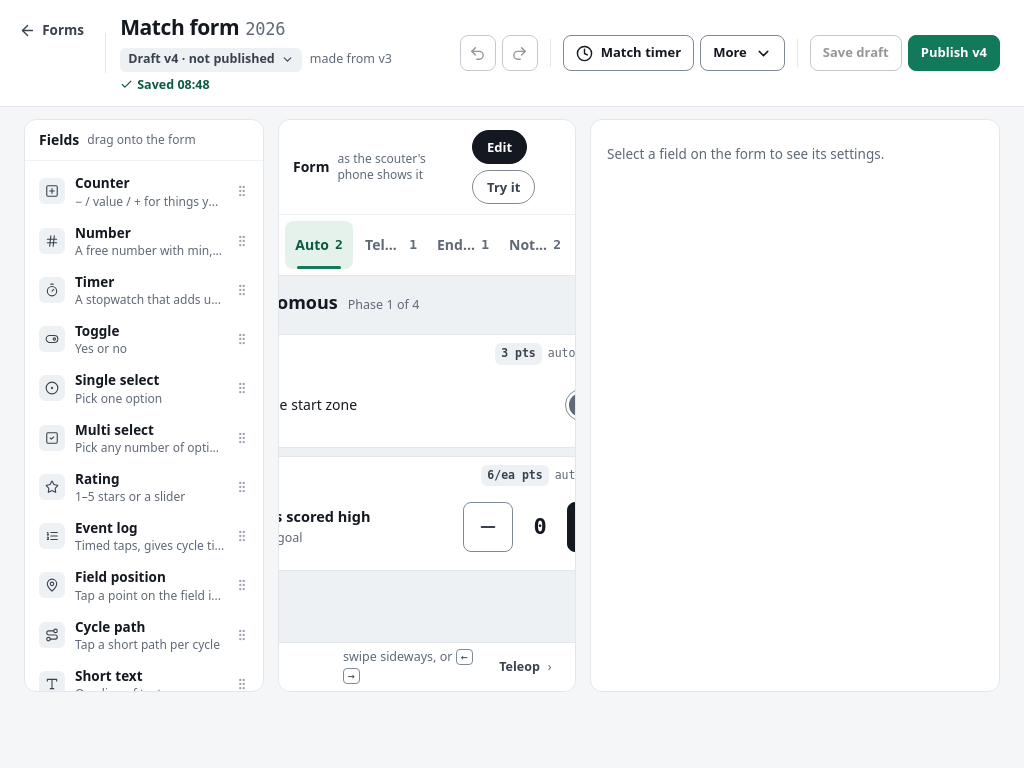
Test case: Try it: map fields (task 1.35) › draws a map field as its map button in Edit and Try it, never a placeholder card
This screenshot has width=1024, height=768.
Expected: the element "Form" is shown, left=278, top=119, right=576, bottom=692
Click the button with aria-label "Add Field position:": point(144, 585) left=31, top=561, right=257, bottom=610
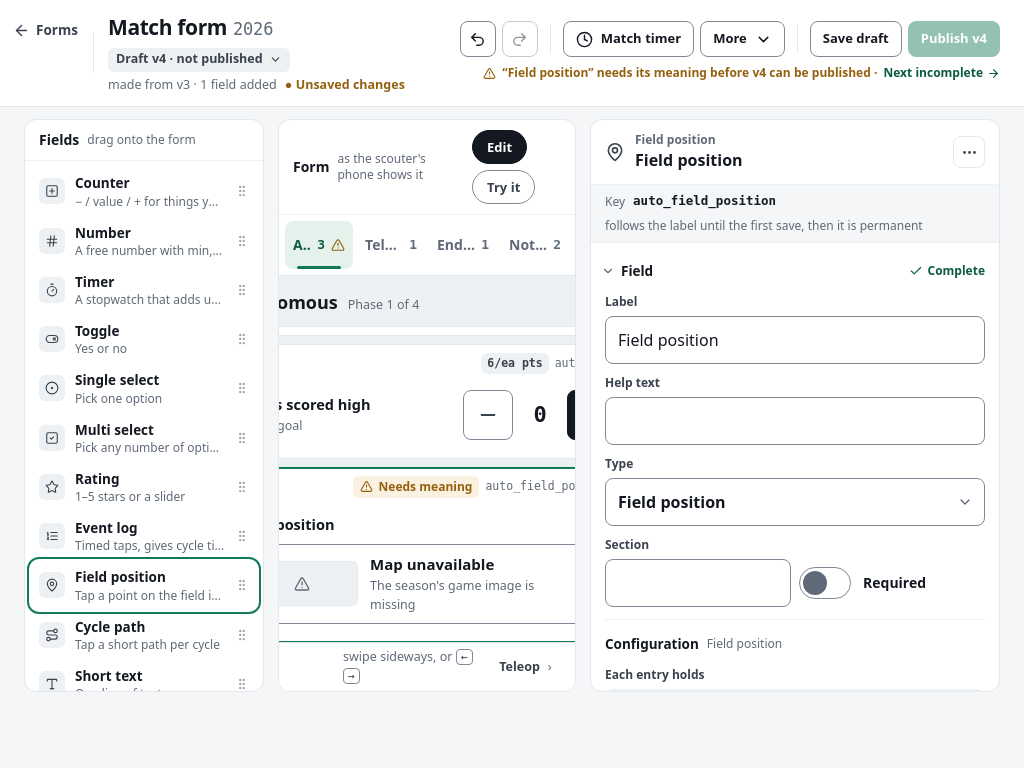
Click the button with aria-label "Add Cycle path:": point(144, 635) left=31, top=610, right=257, bottom=659
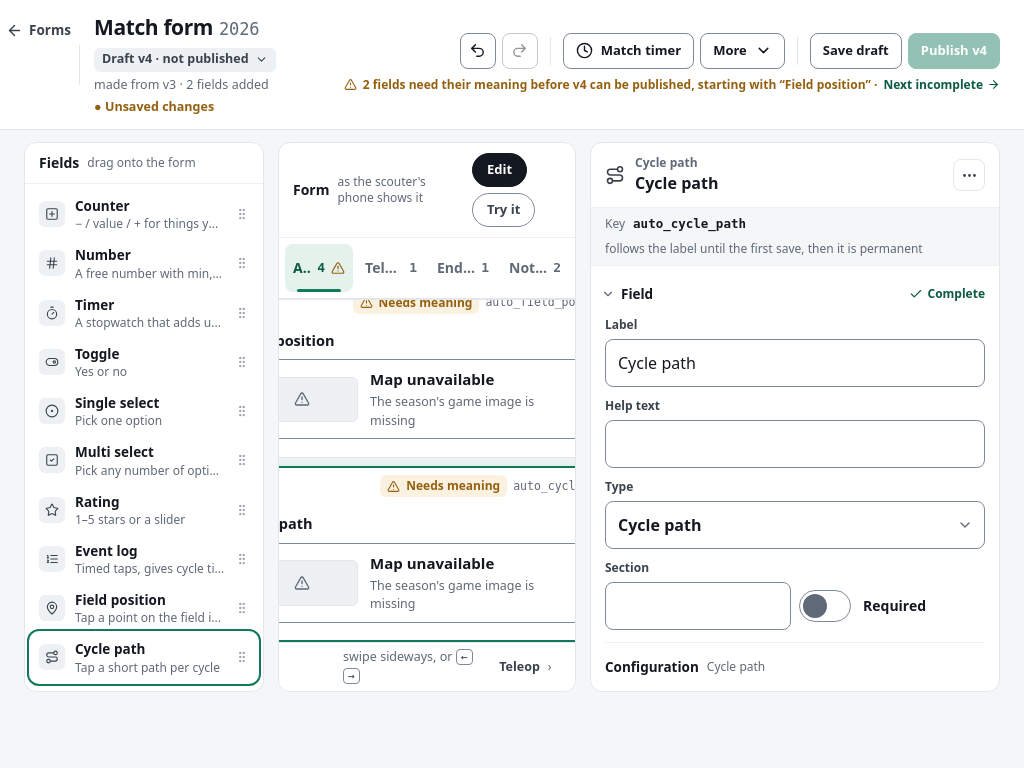
Now the text "Map unavailable" is shown 2 times, box left=370, top=369, right=494, bottom=389; left=370, top=553, right=494, bottom=573
Click the button "Try it": point(504, 210) left=472, top=193, right=535, bottom=227
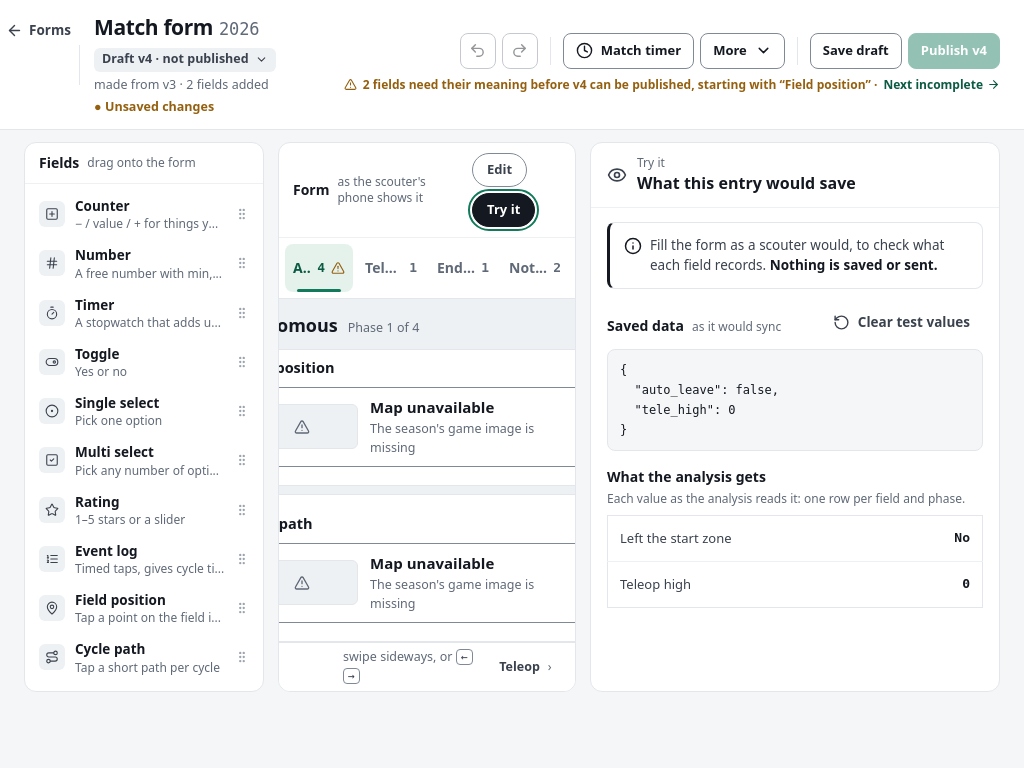
Click the button with aria-label ": Map unavailable": point(427, 427) left=237, top=387, right=617, bottom=467
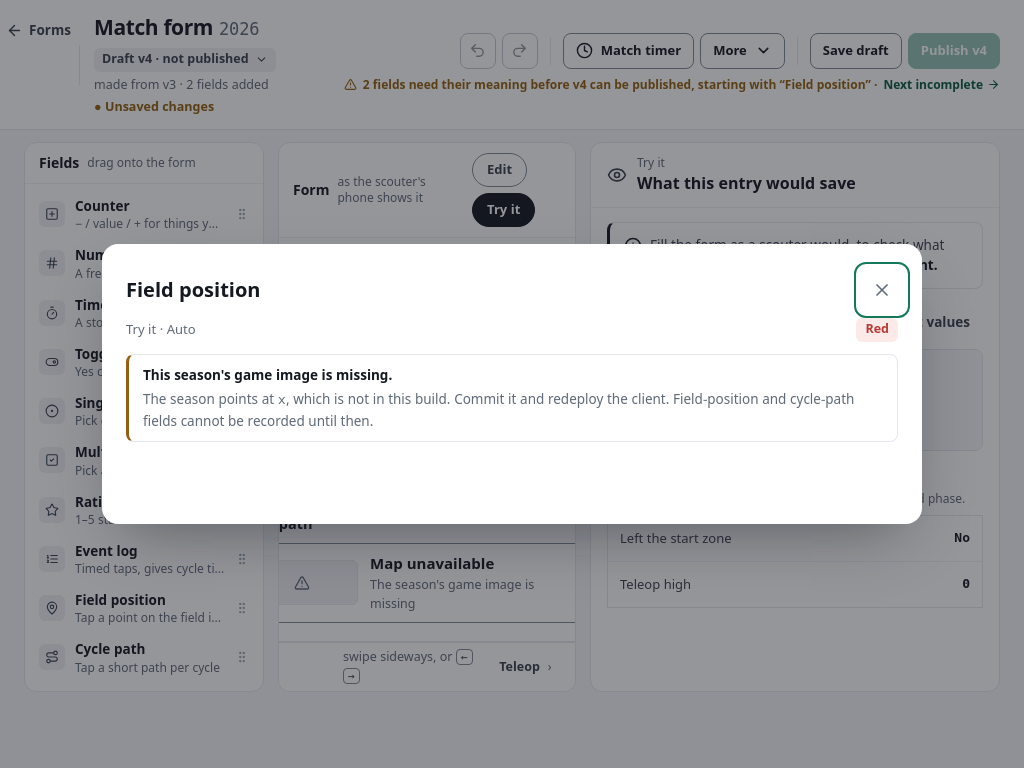
Now the message shows "This season's game image is missing.", box left=143, top=366, right=392, bottom=384
Press Escape in the dialog, box left=102, top=244, right=922, bottom=524
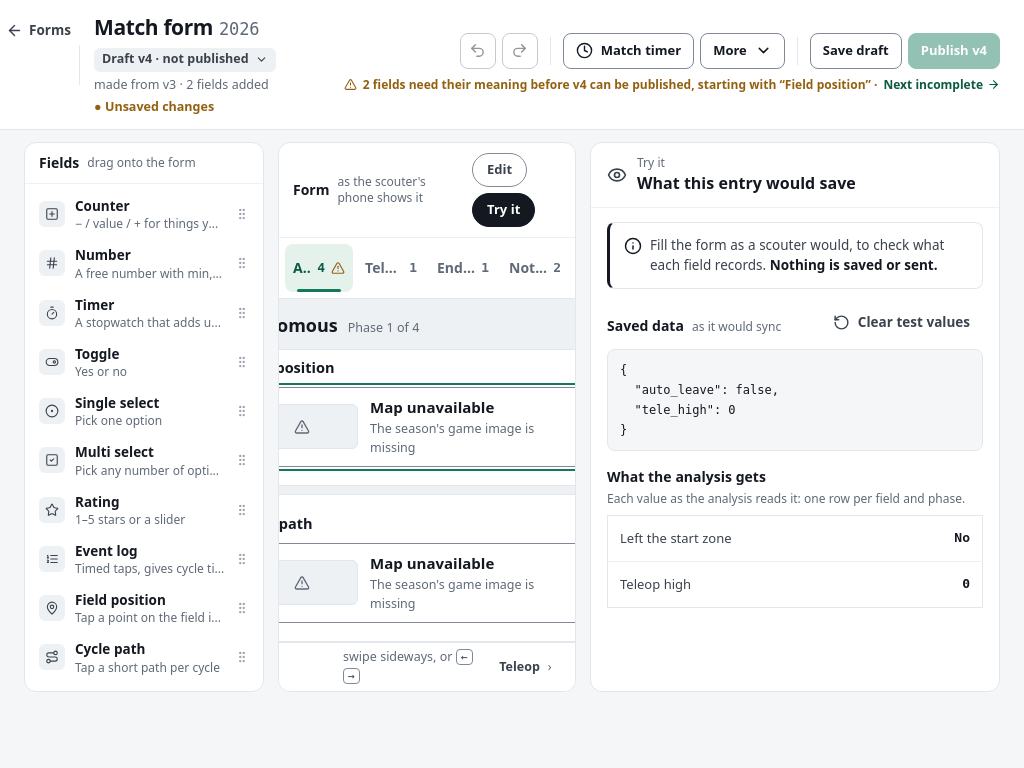
Now the dialog is gone
